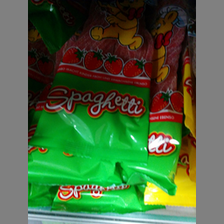candy: (32, 12, 151, 163)
